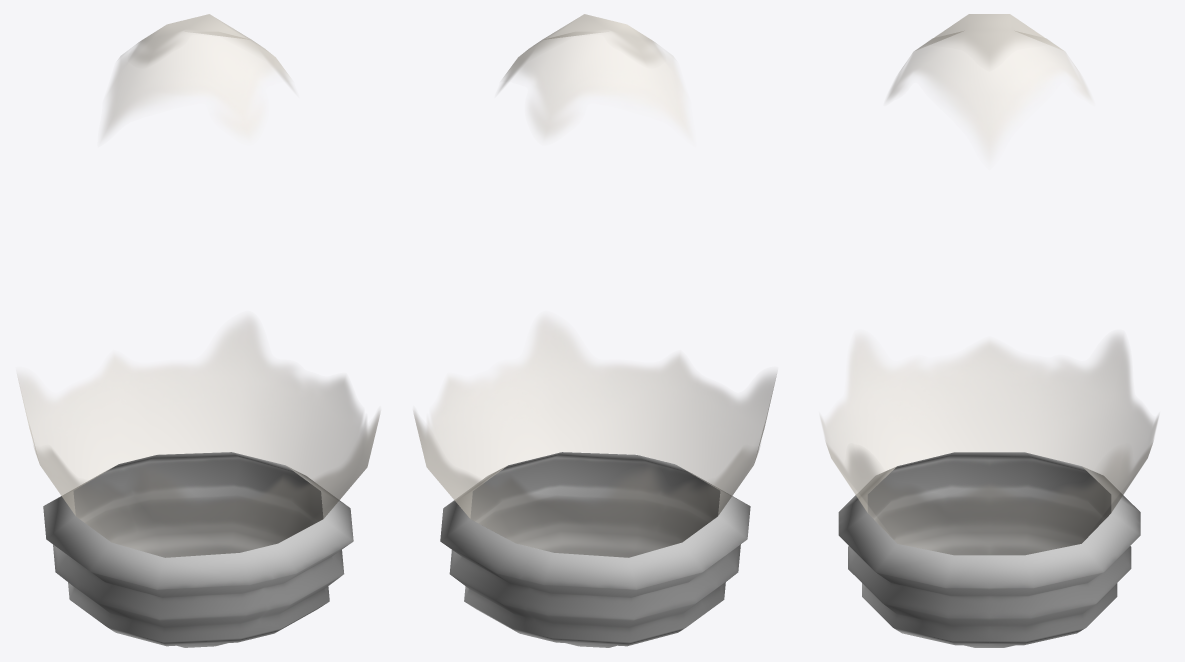
File: lampada final.fbx
The picture shows the model from 3 angles, left to right: view 1: azimuth 30°, elevation 25°; view 2: azimuth 150°, elevation 25°; view 3: azimuth 270°, elevation 25°; orthographic projection.
Visible parts, largest first — view 1: Cube.001, Cube; view 2: Cube.001, Cube; view 3: Cube.001, Cube.
Boxes of the visible parts, box(x1,y1,x2,y2) form: Cube.001: box(17, 14, 380, 557); Cube: box(43, 452, 353, 647); Cube.001: box(413, 14, 776, 557); Cube: box(440, 452, 750, 647); Cube.001: box(820, 14, 1158, 554); Cube: box(838, 452, 1140, 647).
Size of the model in its own units: 320 by 602 by 320.
2 materials, 2 textured.
